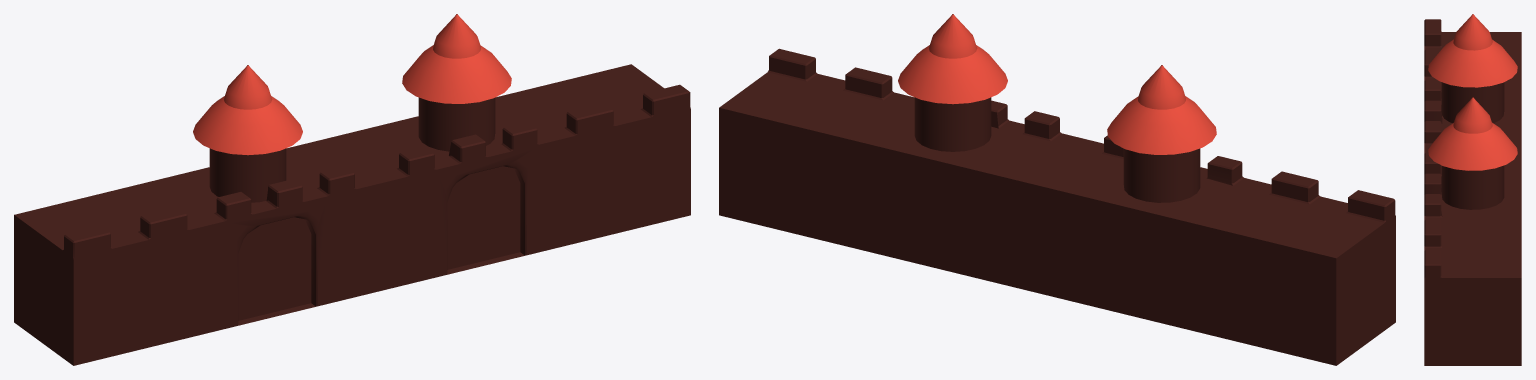
File: castle.fbx
3 renders of one model, left to right at view 1: azimuth 30°, elevation 25°; view 2: azimuth 150°, elevation 25°; view 3: azimuth 270°, elevation 25°, orthographic. The views are drawn at different scales.
Visible parts, largest first — view 1: Cube; view 2: Cube; view 3: Cube.
Part boxes in pixels (x1=…): Cube: x1=14, y1=14, x2=690, y2=365; Cube: x1=719, y1=14, x2=1395, y2=365; Cube: x1=1424, y1=14, x2=1521, y2=365.
Size of the model in its own units: 1200 by 426 by 200.
